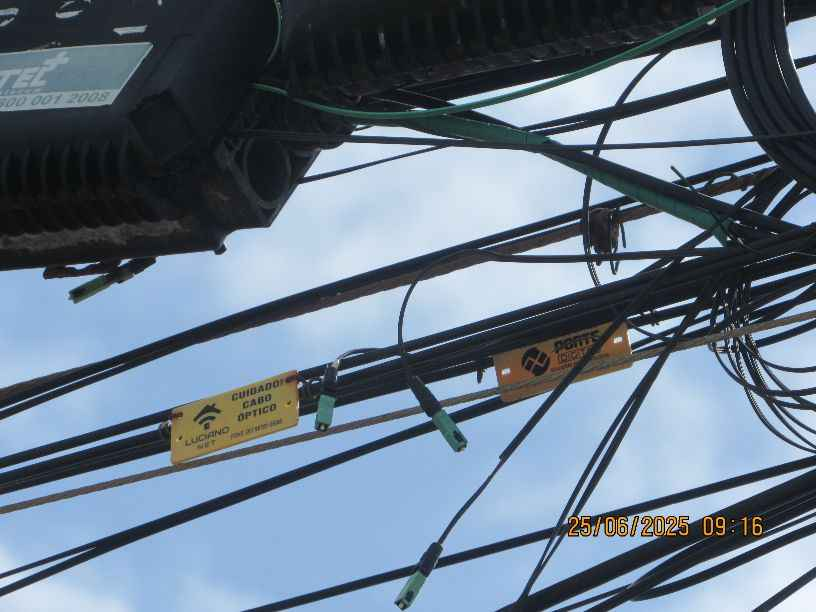fibra_optica: (100, 365, 312, 481), (468, 313, 649, 409)
